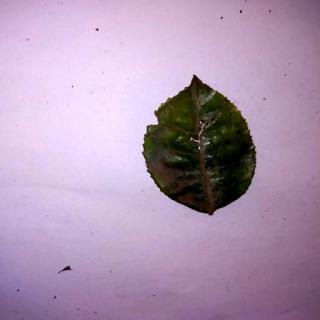Anthracnose: (142, 77, 259, 217)
